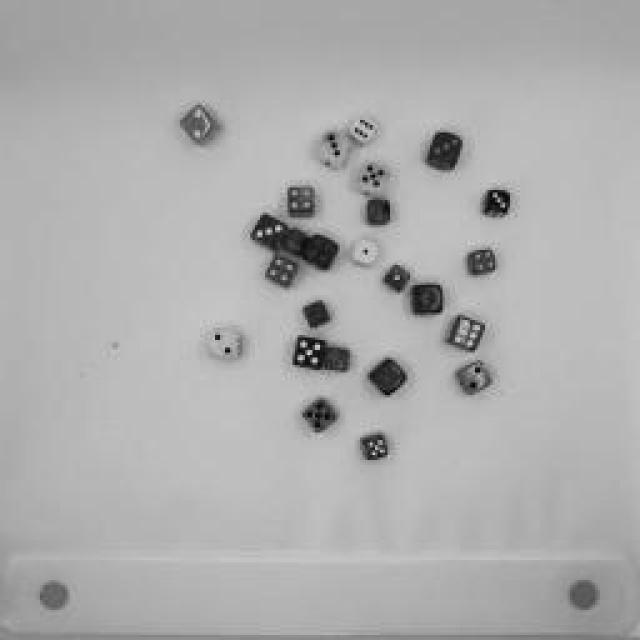dice_1: (406, 284, 446, 316), (350, 240, 380, 270), (381, 265, 409, 295), (284, 226, 306, 259)
dice_2: (179, 102, 221, 148), (209, 325, 246, 365), (452, 360, 492, 395), (325, 346, 350, 374)
dice_3: (366, 355, 409, 400), (429, 130, 461, 175), (250, 215, 285, 253), (315, 132, 350, 168), (484, 189, 516, 221)
dice_4: (266, 254, 299, 291), (285, 185, 317, 220), (306, 235, 334, 275), (465, 249, 500, 279), (364, 199, 394, 226)
dice_5: (300, 399, 340, 436), (293, 336, 325, 374), (358, 162, 390, 198), (358, 434, 390, 466), (301, 301, 334, 331)
dice_6: (446, 316, 486, 354), (350, 118, 380, 148)
